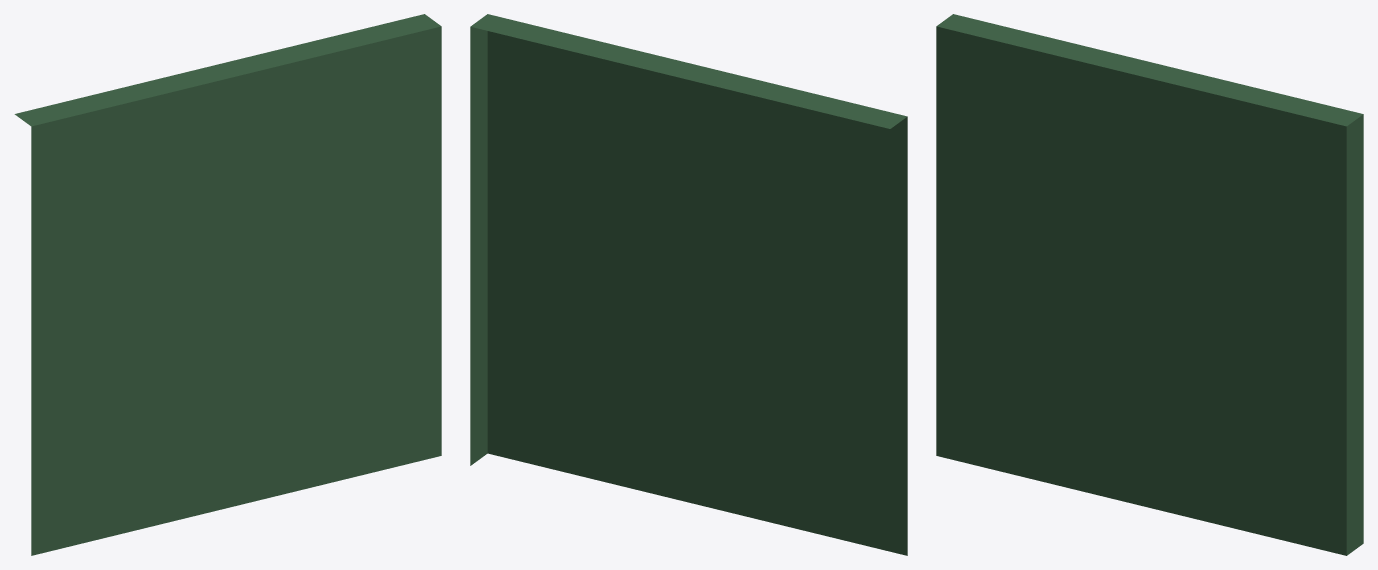
Rendered from M_Wall350InGreen30.fbx.
3 renders of one model, left to right at view 1: azimuth 30°, elevation 25°; view 2: azimuth 150°, elevation 25°; view 3: azimuth 330°, elevation 25°, orthographic. The views are drawn at different scales.
Visible parts, largest first — view 1: M_Wall350InGreen30; view 2: M_Wall350InGreen30; view 3: M_Wall350InGreen30.
Boxes of the visible parts, x1,y1,x2,y2 form: M_Wall350InGreen30: (14,14,441,555); M_Wall350InGreen30: (470,14,907,555); M_Wall350InGreen30: (936,14,1363,555).
Size of the model in its own units: 350 by 25 by 350.
